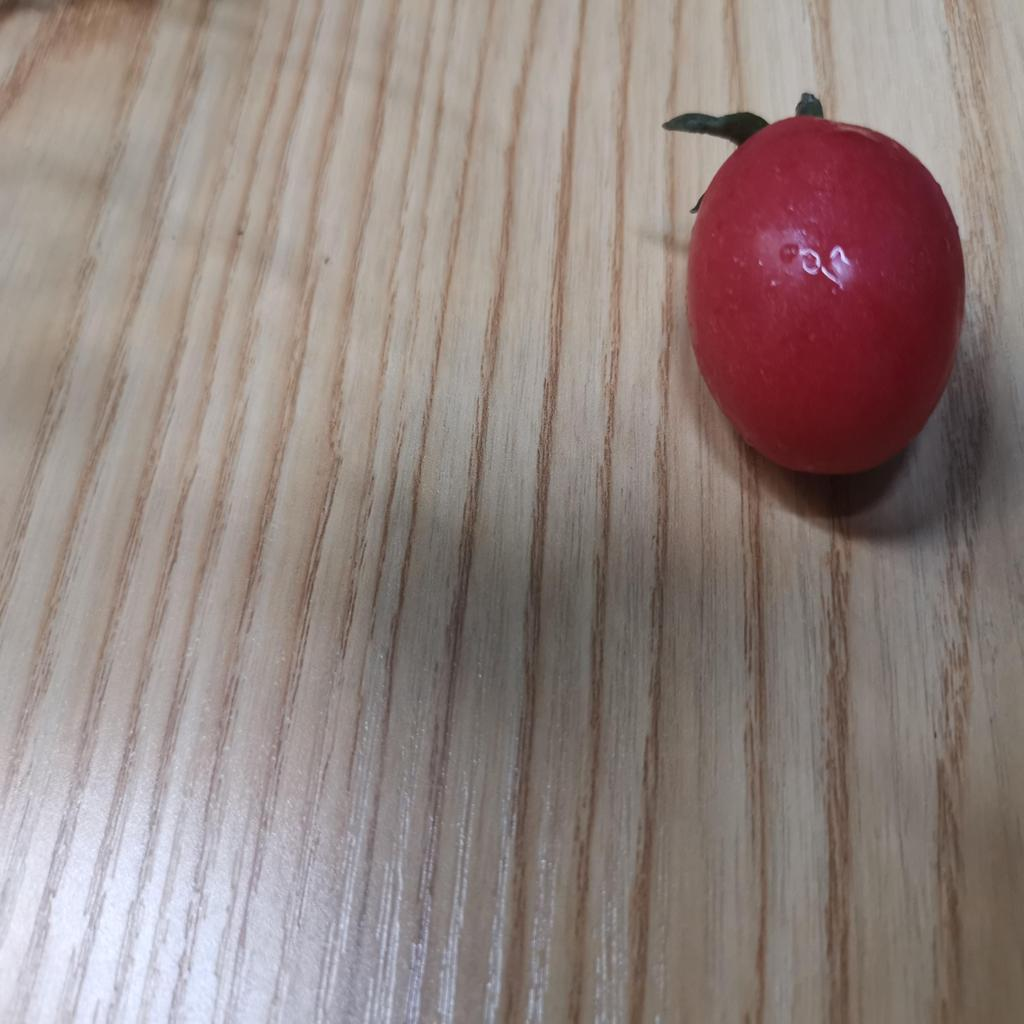tomato: (663, 85, 985, 527)
